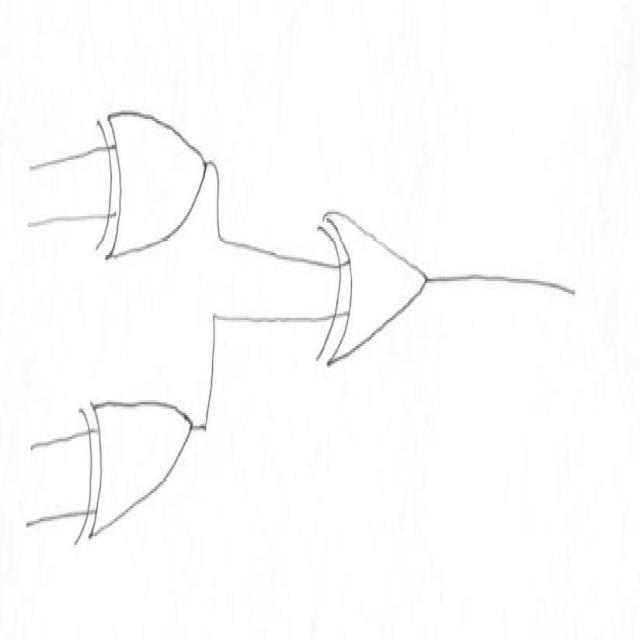XOR: (304, 173, 449, 382), (89, 83, 211, 294), (71, 368, 199, 563)
